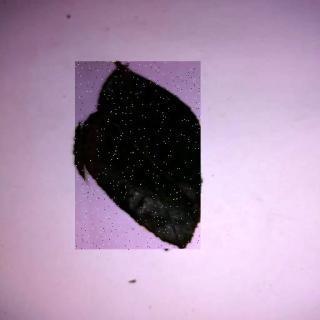Bird Eye Spot: (76, 63, 202, 252)
